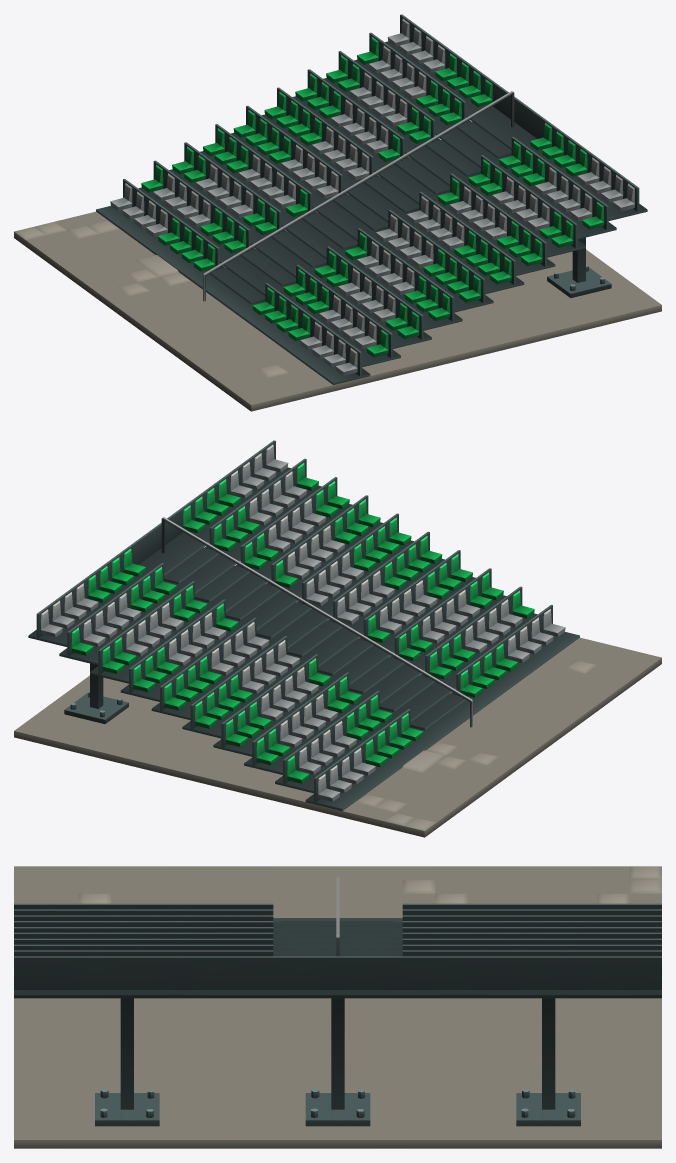
Rendered from Stand_1D.fbx.
The picture shows the model from 3 angles, top to bottom: view 1: azimuth 30°, elevation 25°; view 2: azimuth 150°, elevation 25°; view 3: azimuth 270°, elevation 25°; orthographic projection. The views are drawn at different scales.
Visible parts, largest first — view 1: Stand_1D; view 2: Stand_1D; view 3: Stand_1D.
Boxes of the visible parts, x1=… form: Stand_1D: x1=14, y1=14, x2=661, y2=411; Stand_1D: x1=14, y1=440, x2=661, y2=837; Stand_1D: x1=14, y1=866, x2=661, y2=1148.
Size of the model in its own units: 20 by 6.55 by 20.
